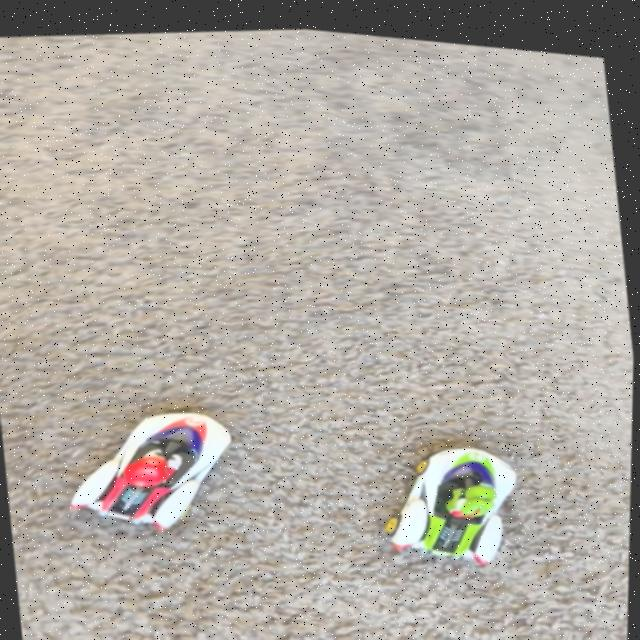mario: (40, 379, 258, 560)
yoshi: (359, 413, 545, 590)
